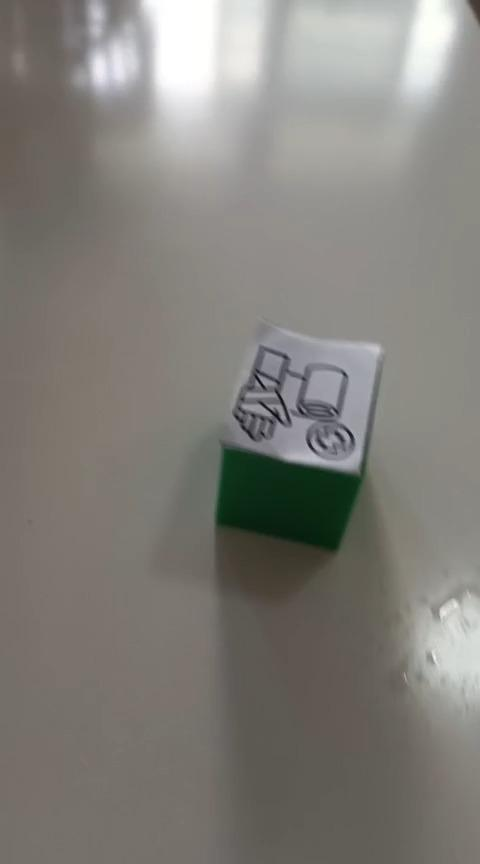Bandages: (213, 316, 385, 552)
